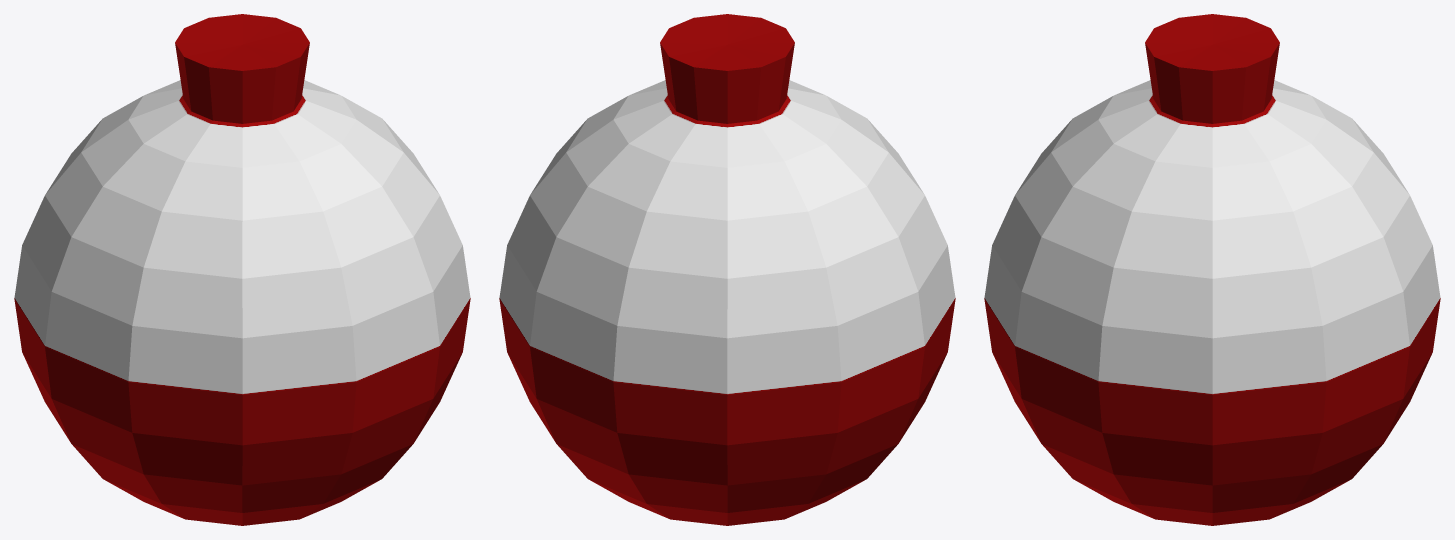
File: bob.fbx
3 renders of one model, left to right at view 1: azimuth 30°, elevation 25°; view 2: azimuth 150°, elevation 25°; view 3: azimuth 270°, elevation 25°, orthographic.
Parts seen in each view (by area): view 1: pSphere1; view 2: pSphere1; view 3: pSphere1.
Boxes of the visible parts, box(x1,y1,x2,y2) form: pSphere1: box(14, 14, 470, 525); pSphere1: box(499, 14, 955, 525); pSphere1: box(984, 14, 1440, 525).
Size of the model in its own units: 0.5096 by 0.5705 by 0.5096.
